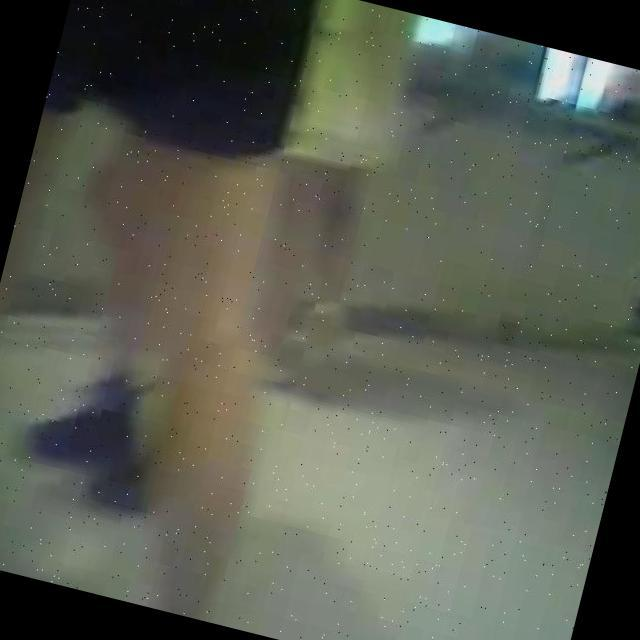person: (0, 0, 373, 624), (216, 0, 438, 404)
